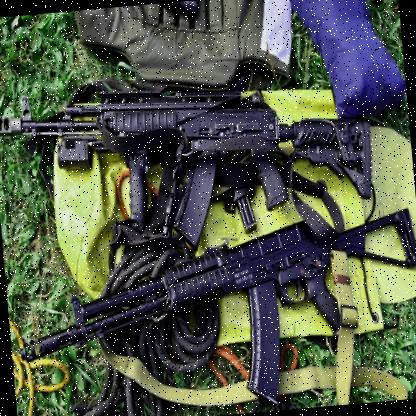rifle: (5, 235, 416, 416), (0, 44, 377, 239)
